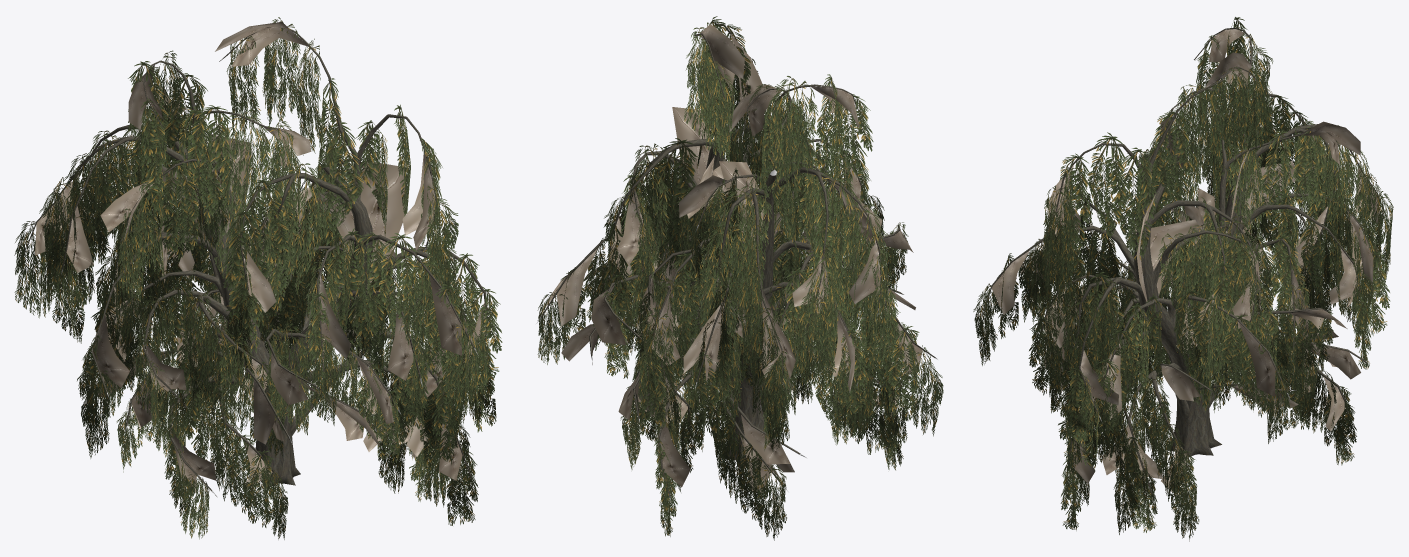
File: MarshWillow_2.fbx
3 renders of one model, left to right at view 1: azimuth 30°, elevation 25°; view 2: azimuth 150°, elevation 25°; view 3: azimuth 270°, elevation 25°, orthographic. The views are drawn at different scales.
Visible parts, largest first — view 1: MarshWillow_2; view 2: MarshWillow_2; view 3: MarshWillow_2.
Boxes of the visible parts, <box> form: MarshWillow_2: <box>14,17,502,539</box>; MarshWillow_2: <box>536,16,943,540</box>; MarshWillow_2: <box>973,17,1393,541</box>.
Bounding box in the file's own units: 33.48 × 42.82 × 37.26.
